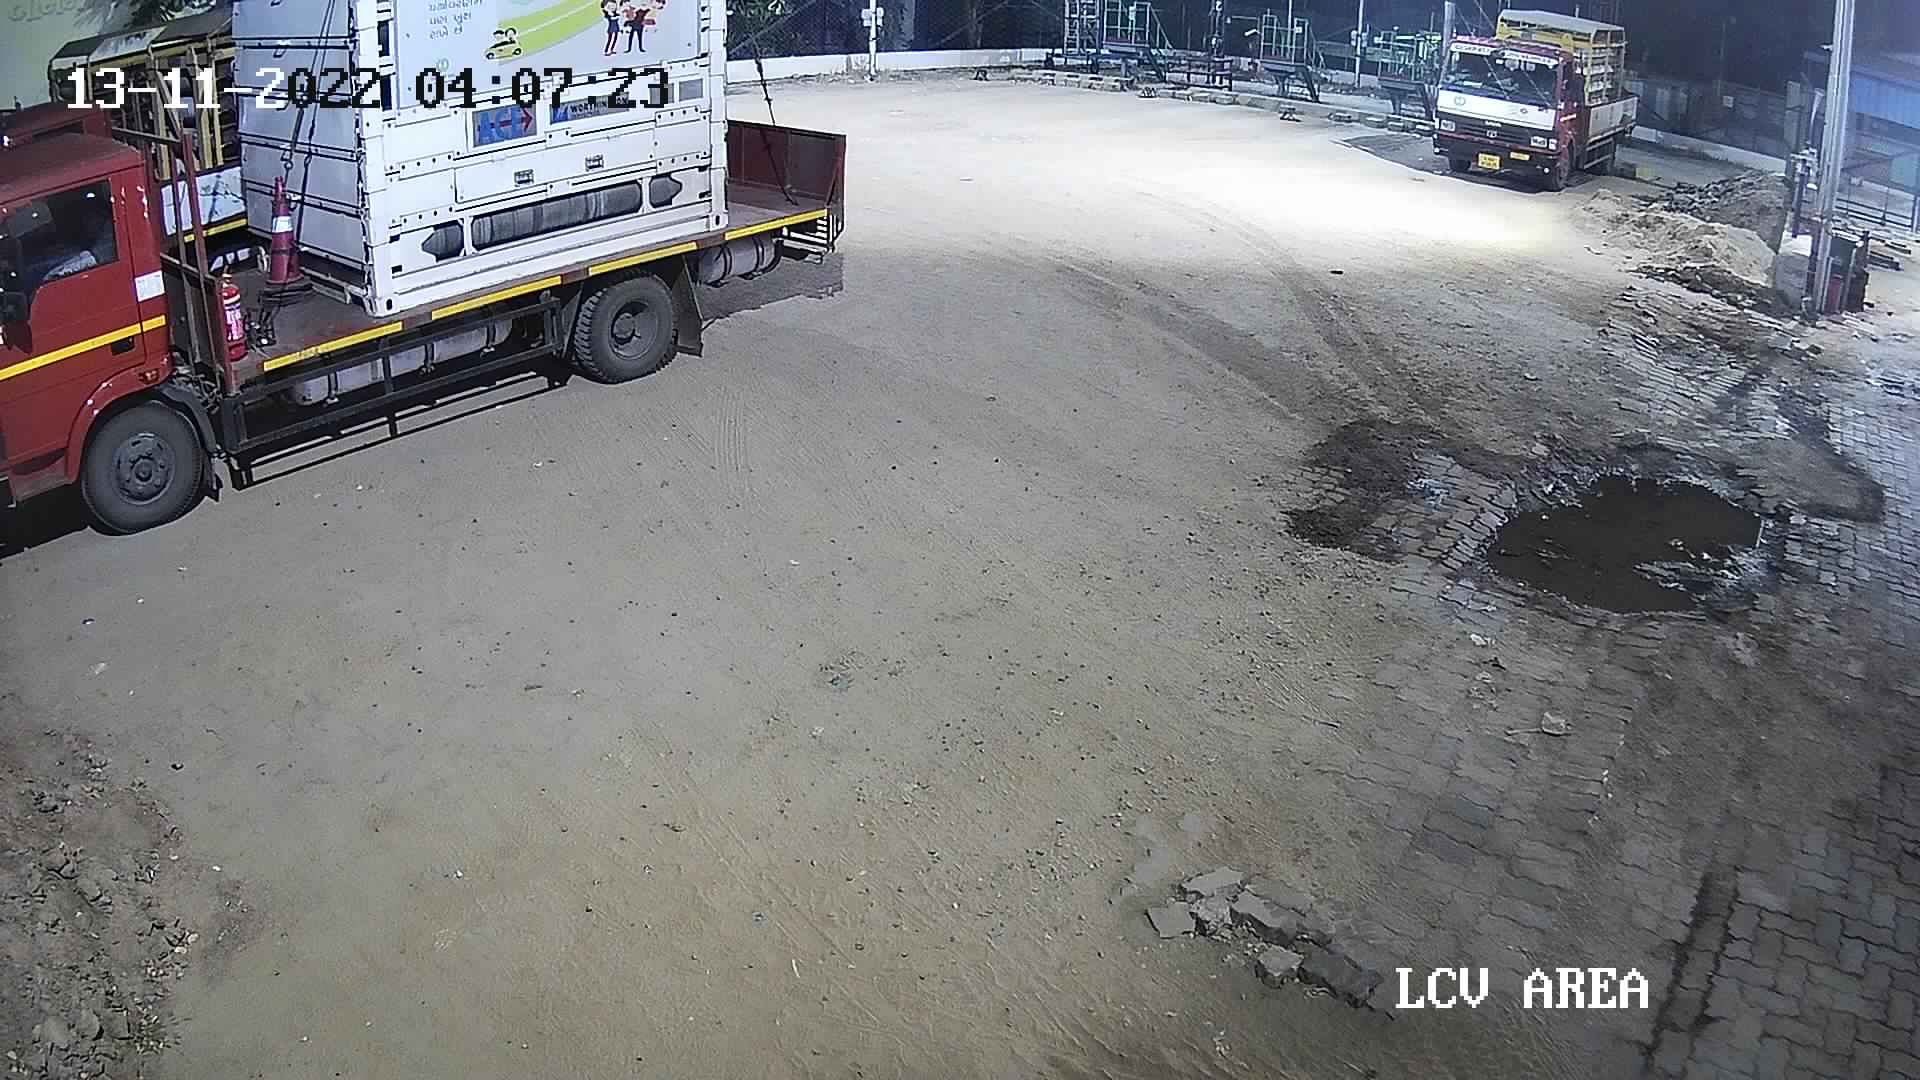HMV: (0, 5, 861, 554), (0, 3, 266, 278), (1420, 0, 1644, 193)
